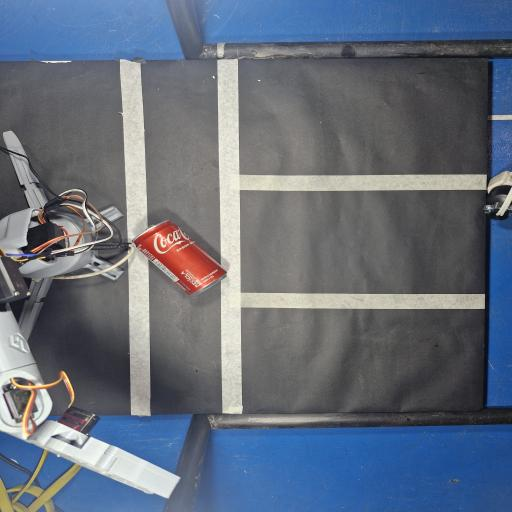lata: (133, 221, 226, 295)
